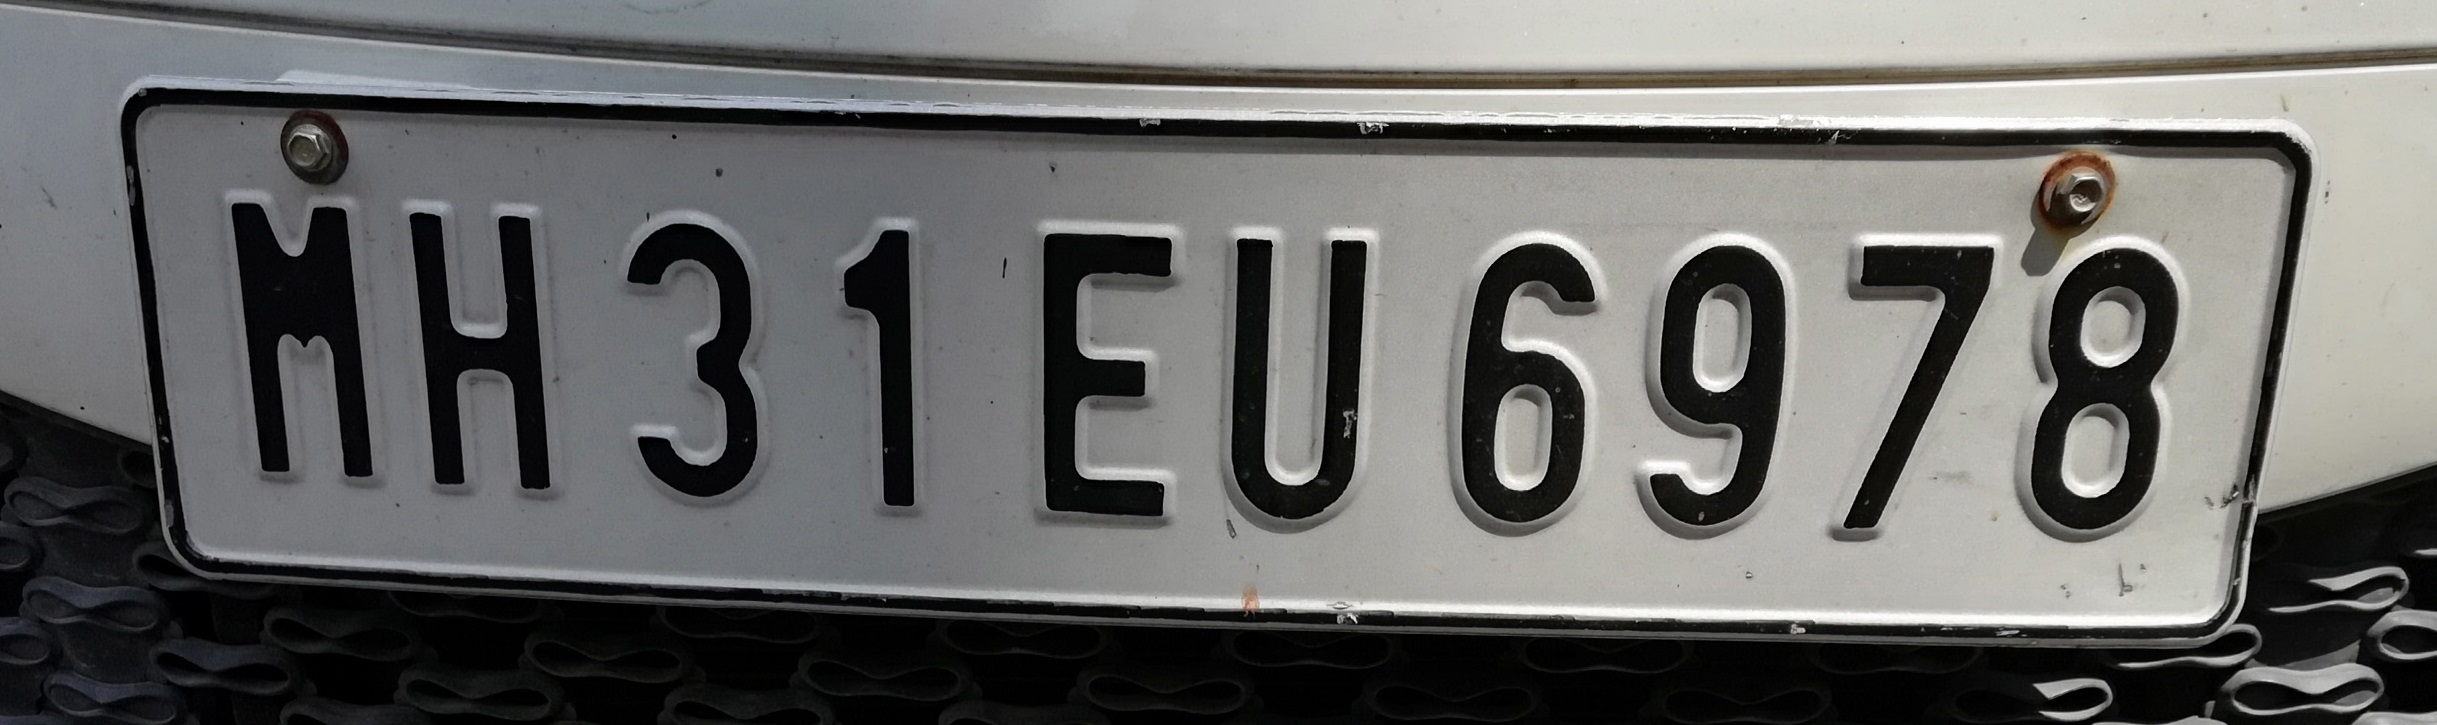numberplate: (112, 62, 2318, 662)
